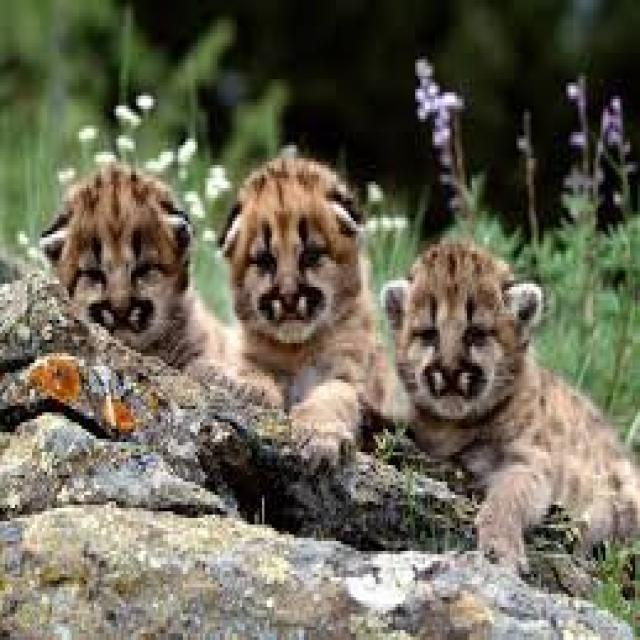Jaguar: (380, 234, 640, 587), (220, 155, 378, 469), (37, 162, 218, 386)
